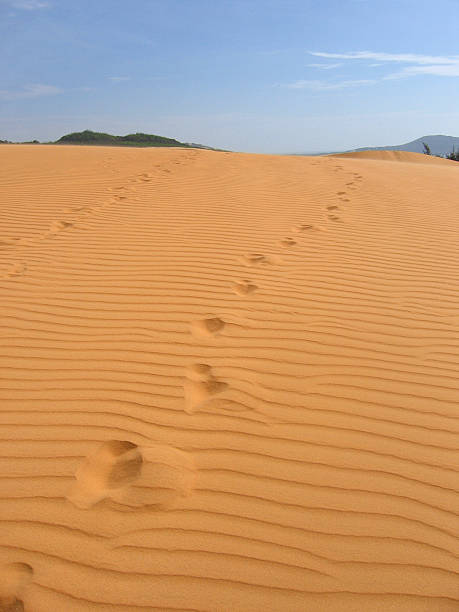human_foot_print: (68, 440, 195, 509), (68, 440, 142, 508), (129, 442, 196, 509), (184, 363, 250, 413), (184, 363, 227, 413), (0, 562, 33, 611), (191, 316, 225, 336), (241, 253, 274, 266), (47, 220, 73, 235), (233, 279, 257, 295), (6, 262, 26, 277), (291, 223, 321, 233), (279, 237, 296, 247), (139, 173, 152, 181), (328, 214, 340, 221), (339, 197, 351, 202), (326, 205, 338, 210), (336, 191, 346, 195)
